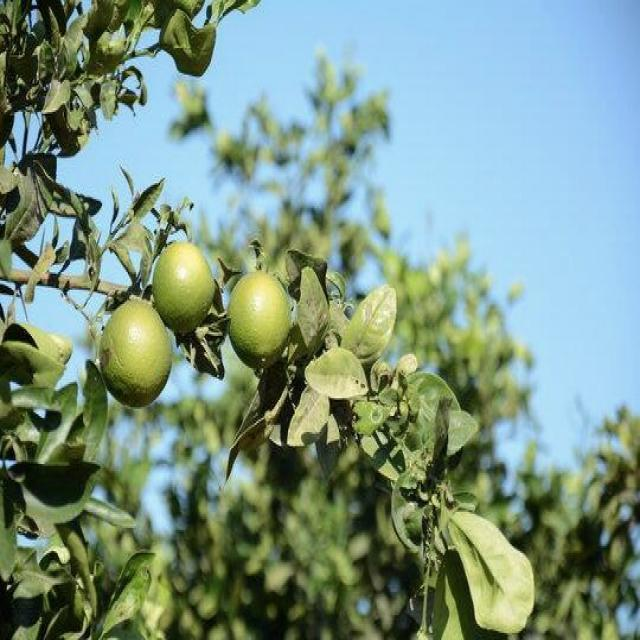Jeruk Belum Matang: (97, 298, 172, 406), (228, 265, 292, 373), (150, 240, 216, 332)
